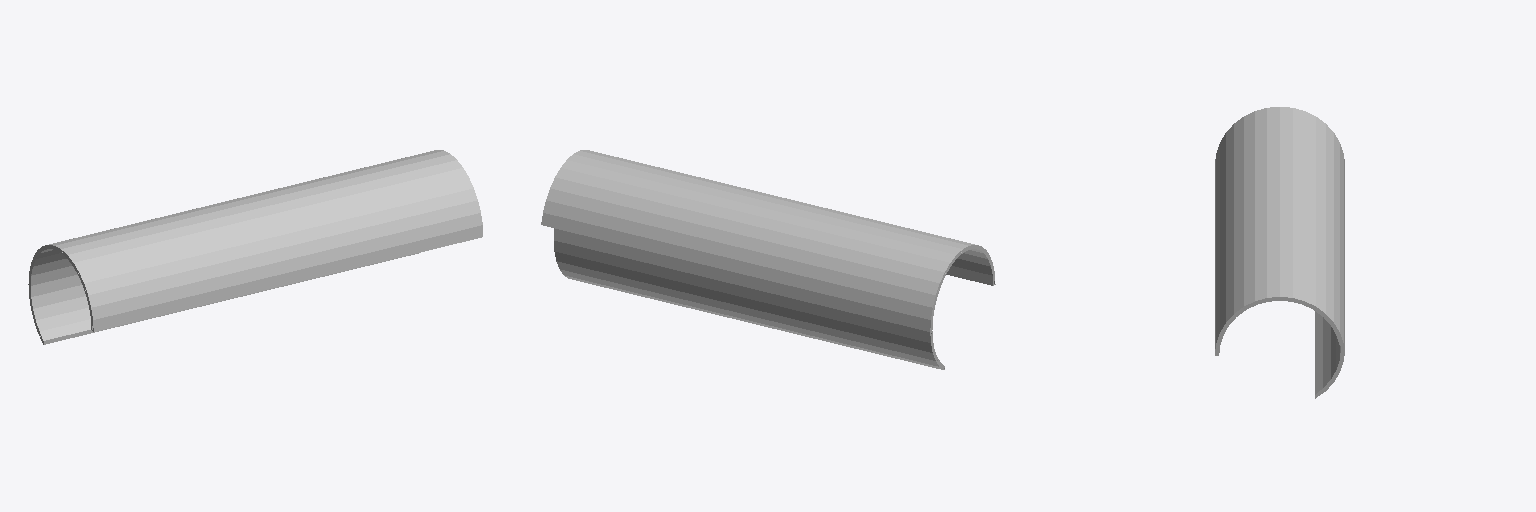
File: HeadBody0.obj
3 renders of one model, left to right at view 1: azimuth 30°, elevation 25°; view 2: azimuth 150°, elevation 25°; view 3: azimuth 270°, elevation 25°, orthographic.
Parts seen in each view (by area): view 1: HeadTransparent_Cylinder.004; view 2: HeadTransparent_Cylinder.004; view 3: HeadTransparent_Cylinder.004.
Part boxes in pixels (x1,y1,x2,y2): HeadTransparent_Cylinder.004: (28,150,482,344); HeadTransparent_Cylinder.004: (541,150,995,369); HeadTransparent_Cylinder.004: (1215,107,1344,398).
Size of the model in its own units: 2.07 by 0.5511 by 0.6.